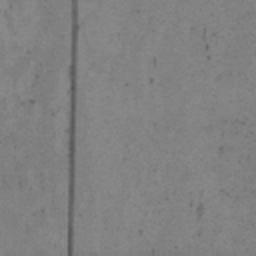Scratches: (67, 0, 80, 256)
